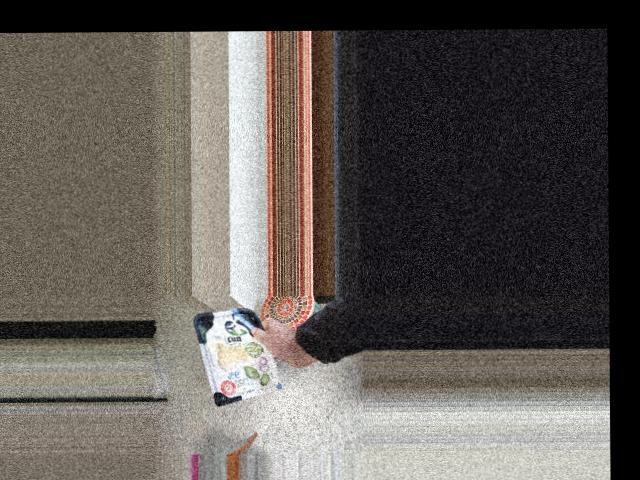cheese: (193, 306, 281, 401)
